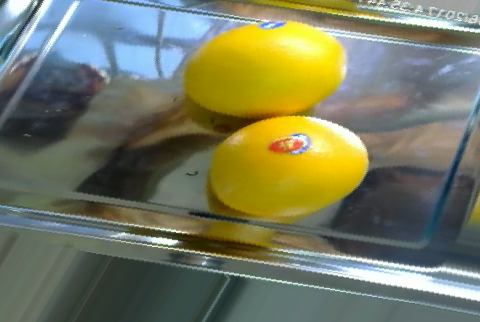Orange: (207, 116, 370, 218), (181, 20, 347, 118)
